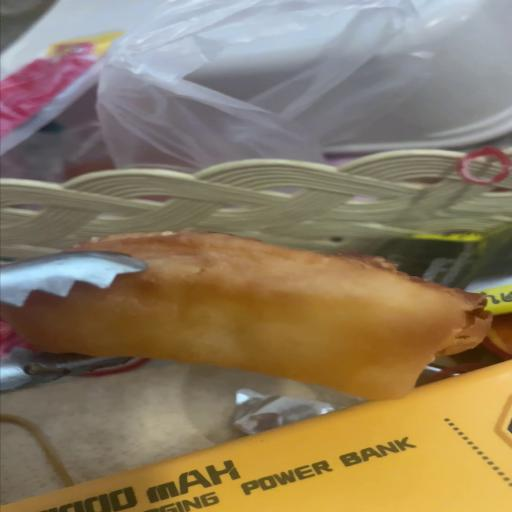street_burnt_good: (0, 229, 485, 400)
